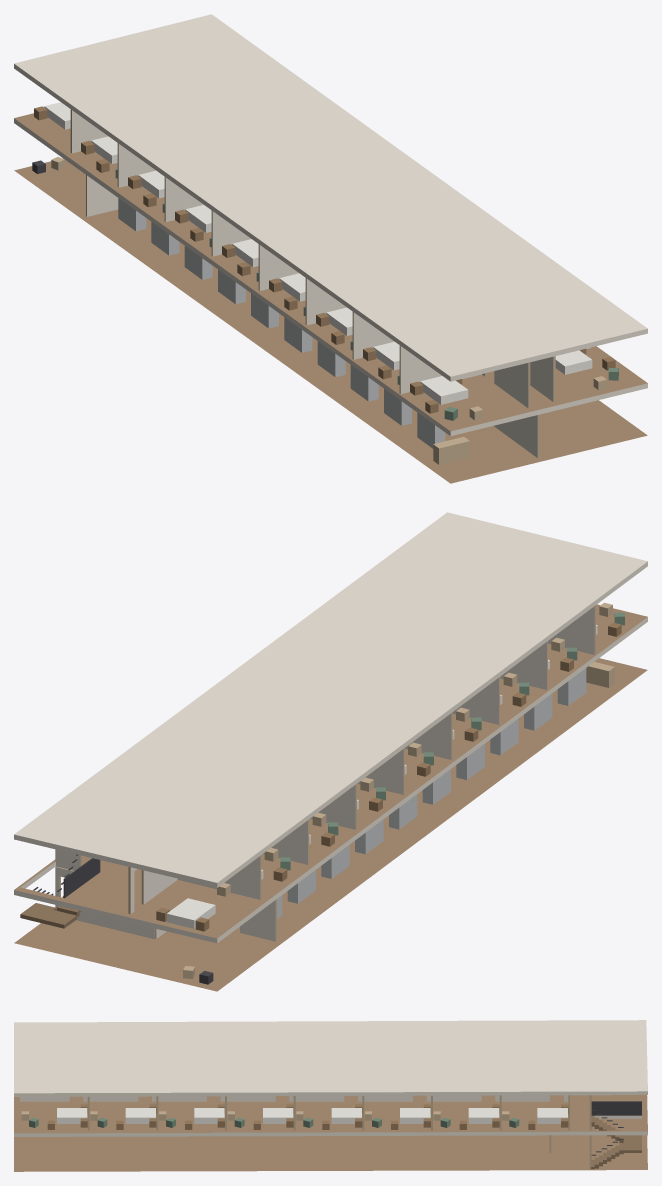
The model's file is interior.glb.
The picture shows the model from 3 angles, top to bottom: view 1: azimuth 30°, elevation 25°; view 2: azimuth 150°, elevation 25°; view 3: azimuth 270°, elevation 25°; orthographic projection. The views are drawn at different scales.
Visible parts, largest first — view 1: slabs, partitions, coarse-s1, coarse-s0; view 2: slabs, partitions, coarse-s0, coarse-s1, stair; view 3: slabs, coarse-s1, partitions, stair.
Boxes of the visible parts, <box> form: slabs: <box>14,14,647,483</box>; partitions: <box>70,109,590,458</box>; coarse-s1: <box>34,102,618,420</box>; coarse-s0: <box>32,157,469,464</box>; slabs: <box>14,512,647,991</box>; partitions: <box>55,605,595,941</box>; coarse-s0: <box>183,662,614,984</box>; coarse-s1: <box>156,602,624,931</box>; stair: <box>20,854,100,928</box>; slabs: <box>14,1020,647,1171</box>; coarse-s1: <box>21,1104,568,1129</box>; partitions: <box>20,1095,591,1169</box>; stair: <box>590,1101,641,1169</box>.
Bounding box in the file's own units: 11.34 × 5.7 × 41.53.
